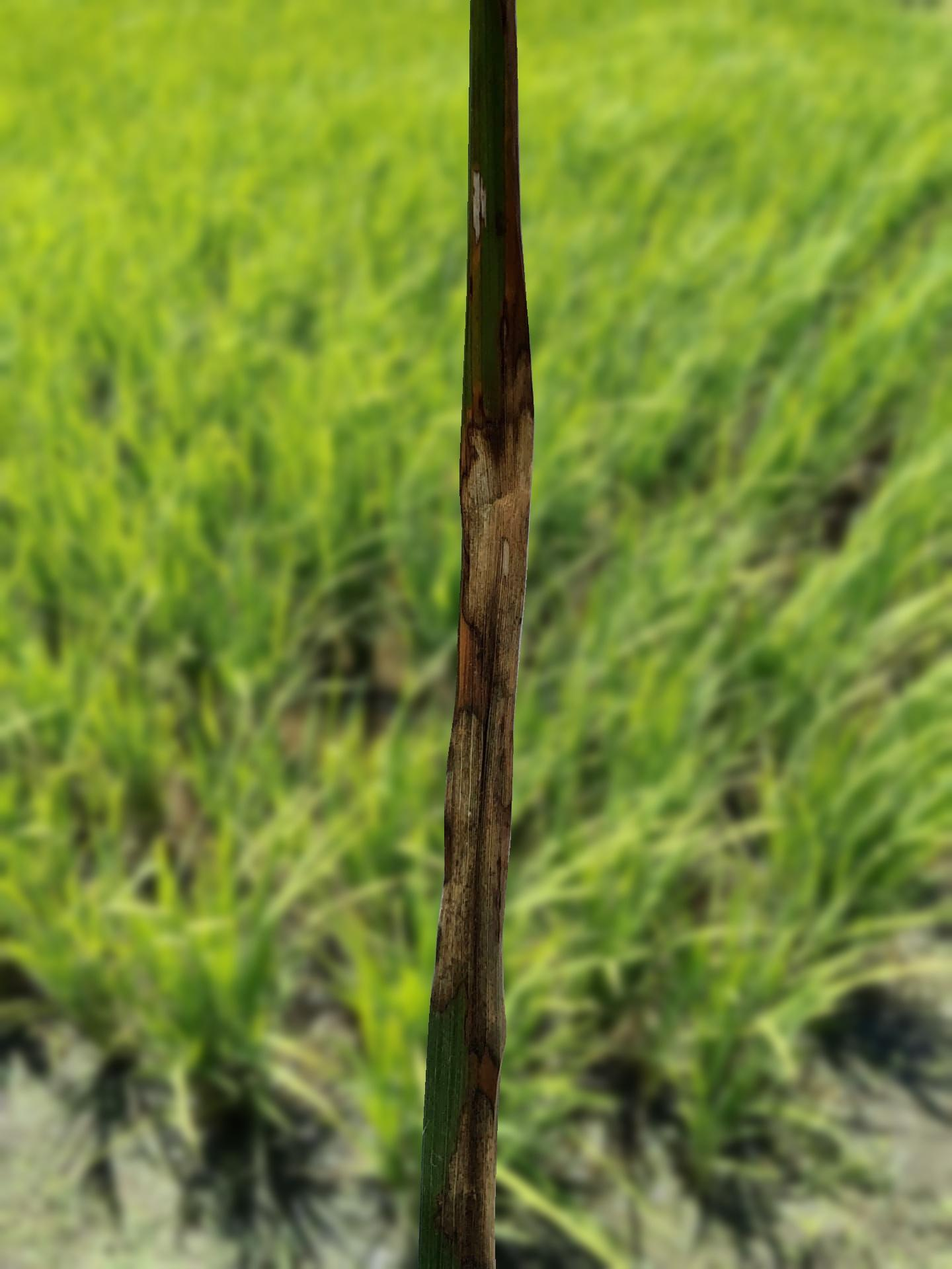BLB: (431, 1, 533, 1268)
LEAF: (418, 0, 534, 1268)
